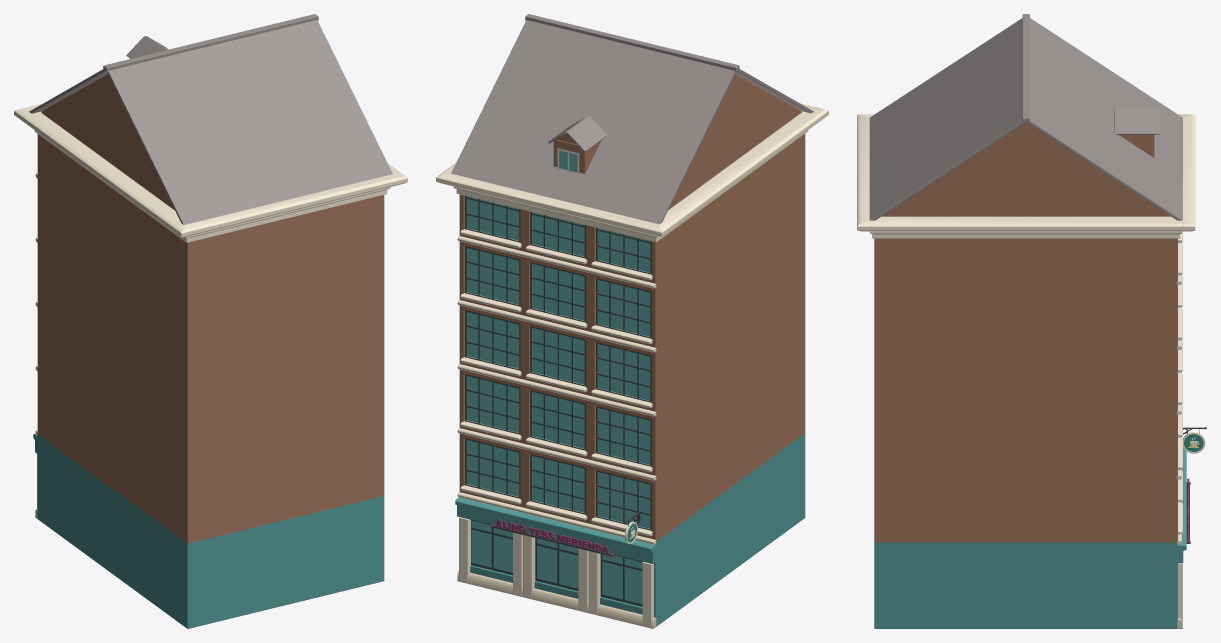
File: far_loft_14.glb
3 renders of one model, left to right at view 1: azimuth 30°, elevation 25°; view 2: azimuth 150°, elevation 25°; view 3: azimuth 270°, elevation 25°, orthographic.
Visible parts, largest first — view 1: shell, props, trim; view 2: shell, props, trim, frames, sign_aling_tess_merienda_text; view 3: shell, props, trim, blade_cup.
Boxes of the visible parts, x1=… form: shell: x1=37, y1=113, x2=384, y2=628; props: x1=29, y1=14, x2=392, y2=224; trim: x1=14, y1=103, x2=407, y2=519; shell: x1=459, y1=113, x2=805, y2=626; props: x1=451, y1=14, x2=813, y2=224; trim: x1=436, y1=103, x2=828, y2=628; frames: x1=465, y1=148, x2=651, y2=606; sign_aling_tess_merienda_text: x1=495, y1=519, x2=609, y2=553; shell: x1=874, y1=238, x2=1177, y2=628; props: x1=869, y1=14, x2=1182, y2=220; trim: x1=857, y1=114, x2=1195, y2=628; blade_cup: x1=1183, y1=427, x2=1206, y2=453.
Size of the model in its own units: 12.2 by 26.18 by 16.13.
